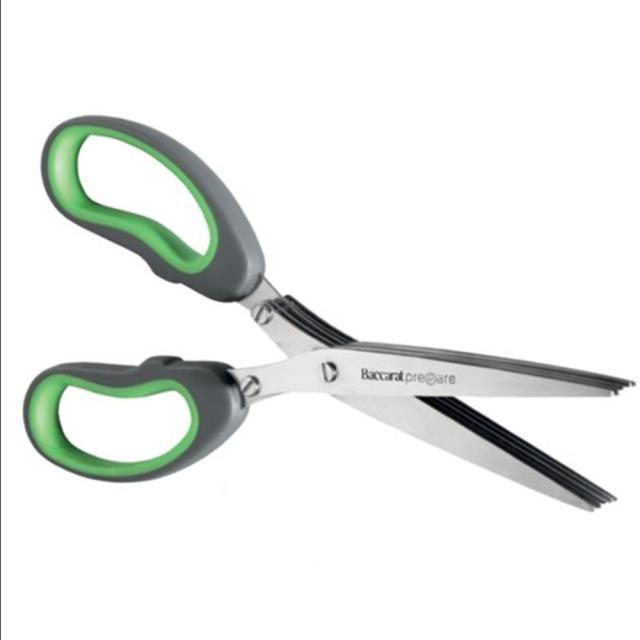Gunting: (23, 114, 637, 514)
